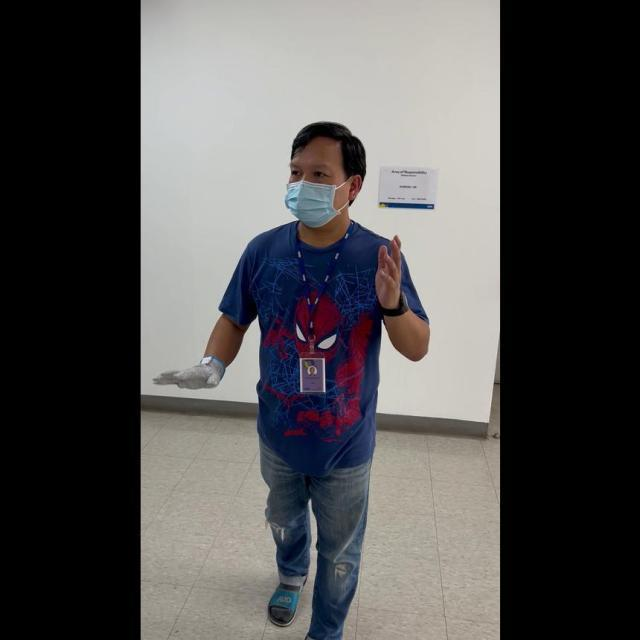bare_hand: (373, 230, 405, 310)
gloved_hand: (153, 351, 225, 395)
